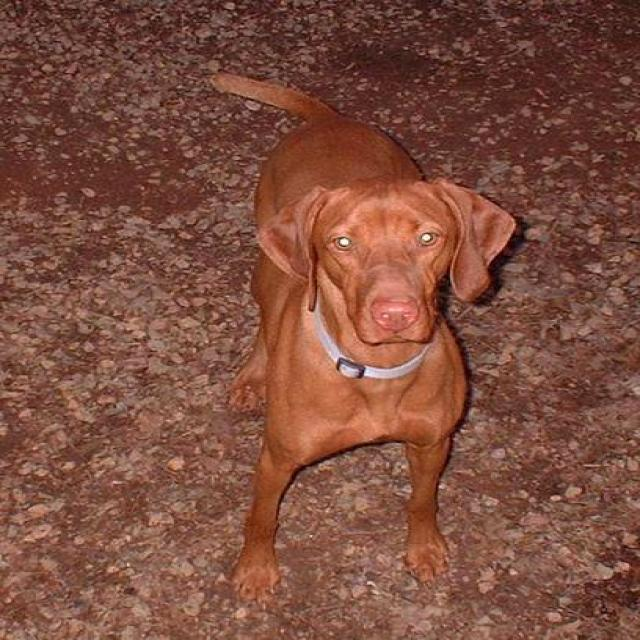vizsla: (192, 70, 518, 602)
